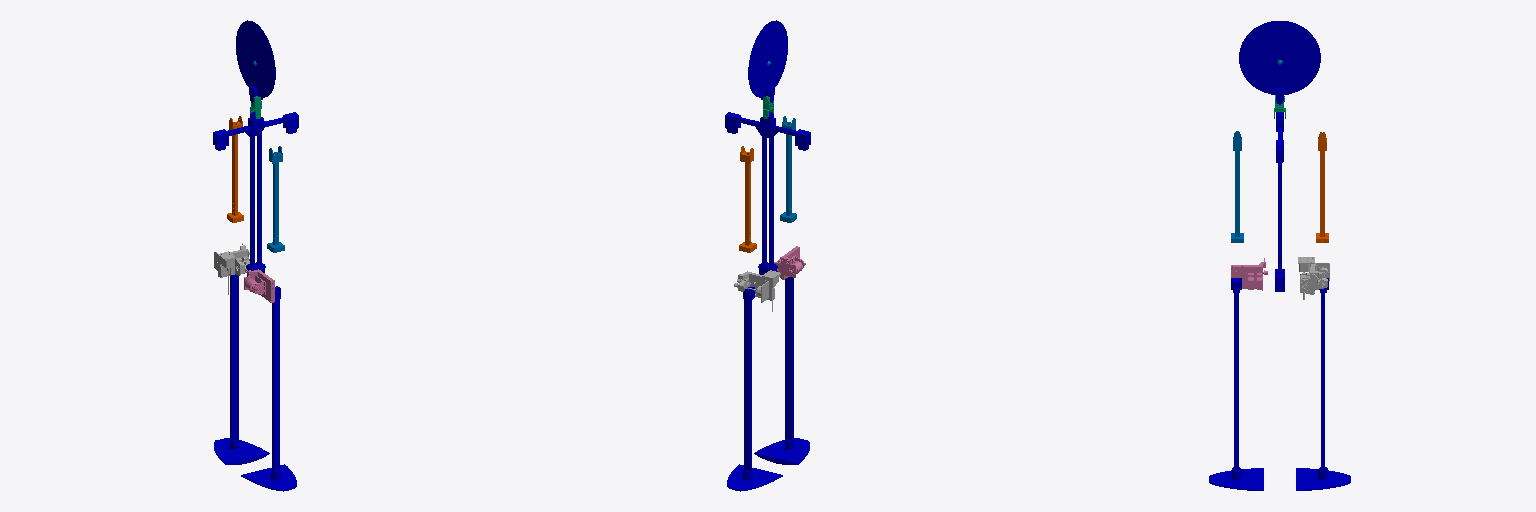
The robot description file, URDF, robot "robot":
<?xml version="1.0" ?>
<!-- Marcheur passif -->
<!-- This file comes from Aldebaran romeo.urdf file with slight modifications:               -->
<!--             - rename joint_base by waist (joint base name in sot is already joint_base) -->
<!--             - waist joint goes from base_link to body (and not base_link)                   -->
<!--             - inverse trunkYaw joint direction (now from body to base_link)                 -->
<!-- Aldebaran file comes from                                                               --> 

<robot name="robot"  xmlns:xacro="http://www.ros.org/wiki/xacro">

   <material name="blue">
      <color rgba="0 0 0.8 1"/>
   </material>

   <link name="world"/>

  <joint name="fixed" type="fixed">
    <parent link="world"/>
    <child link="base_link"/>
</joint>


<!-- virtual link with a virtual joint to make the root link -->
  <!--link name="virtual_link"/>
  <joint name="virtual_joint" type="fixed">
    <parent link="virtual_link"/>
    <child link="base_link"/>
  </joint-->



  <link name="base_link">
    <inertial>
      <mass value="1.635"/>
      <inertia ixx="86e-03" ixy="-39.84e-6" ixz="3.991e-4" iyy="83e-3" iyz="-38.29e-6" izz="4e-3"/>
      <origin rpy="0 0 0" xyz="0 0 0.17346"/>
    </inertial>
    <visual>
      <geometry>
        <mesh filename="package://yoyoman01_description/meshes/BUSTE.stl" scale="0.001 0.001 0.001"/>
      </geometry>
    <origin rpy="0 0 -1.57075" xyz="0 0 0"/>
    <material name="blue"/>
    </visual>
    <collision>
      <geometry>
        <mesh filename="package://yoyoman01_description/meshes/BUSTE.stl" scale="0.001 0.001 0.001"/>
      </geometry>
    <origin rpy="0 0 -1.57075" xyz="0 0 0"/>
    </collision>
  </link>




  <joint name="Neck" type="revolute">
    <parent link="base_link"/>
    <child link="NeckLink"/>
    <origin rpy="0 0 0" xyz="0 0 0.675"/>
    <axis xyz="0 1 0"/>
    <limit effort="1.5" lower="-0.5" upper="0.5" velocity="6.175333333"/>
  </joint>
  <link name="NeckLink">
    <inertial>
      <mass value="0.061"/>
      <inertia ixx="2.95e-5" ixy="-7.67e-9" ixz="-3.61e-9" iyy="2.53e-5" iyz="-3.05e-6" izz="1.09e-5"/>
      <origin rpy="0 0 0" xyz="0 0 0.03"/>
    </inertial>
    <visual>
      <geometry>
        <mesh filename="package://yoyoman01_description/meshes/COU.stl" scale="0.001 0.001 0.001"/>
      </geometry>
    <origin rpy="0 0 1.57075" xyz="0 0 0"/>
    </visual>
    <collision>
      <geometry>
        <mesh filename="package://yoyoman01_description/meshes/COU.stl" scale="0.001 0.001 0.001"/>
      </geometry>
    <origin rpy="0 0 1.57075" xyz="0 0 0"/>
    </collision>
  </link>
  
 <joint name="Head" type="revolute">
    <parent link="NeckLink"/>
    <child link="HeadLink"/>
    <origin rpy="0 0 0" xyz="0 0 0.064502"/>
    <axis xyz="0 1 0"/>
    <limit effort="1.5" lower="-0.5" upper="0.5" velocity="6.175333333"/>
  </joint>
  <link name="HeadLink">
    <inertial>
      <mass value="0.340"/>
      <inertia ixx="2e-3" ixy="-129.7e-9" ixz="5.391e-5" iyy="3e-3" iyz="-267.9e-9" izz="1e-3"/>
      <origin rpy="0 0 0" xyz="0 0 0.143385"/>
    </inertial>
    <visual>
      <geometry>
        <mesh filename="package://yoyoman01_description/meshes/TETE.stl" scale="0.001 0.001 0.001"/>
      </geometry>
    <origin rpy="0 0 1.57075 " xyz="0 0 0"/>
    <material name="blue"/>
    </visual>
    <collision>
      <geometry>
        <mesh filename="package://yoyoman01_description/meshes/TETE.stl" scale="0.001 0.001 0.001"/>
      </geometry>
    <origin rpy="0 0 1.57075 " xyz="0 0 0"/>
    </collision>
  </link>
  

  
<joint name="Rarm" type="revolute">
    <parent link="base_link"/>
    <child link="RArmLink"/>
    <origin rpy="0 0 0" xyz="0 -0.155 0.589901 "/>
    <axis xyz="0 1 0"/>
    <limit effort="4.1" lower="-3" upper="3" velocity="4.814666667"/>
  </joint>
<link name="RArmLink">
    <inertial>
      <mass value="0.172"/>
      <inertia ixx="3e-3" ixy="-2.011e-20" ixz="-3.61e-9" iyy="3e-3" iyz="3.05e-6" izz="2.475e-5"/>
      <origin rpy="0 0 0 " xyz="0 0 -0.10032"/>
    </inertial>
    <visual>
      <geometry>
        <mesh filename="package://yoyoman01_description/meshes/BRAS.stl" scale="0.001 0.001 0.001"/>
      </geometry>
    <origin rpy="0 0 -1.57075" xyz="0 0 0"/>
    </visual>
    <collision>
      <geometry>
        <mesh filename="package://yoyoman01_description/meshes/BRAS.stl" scale="0.001 0.001 0.001"/>
      </geometry>
    <origin rpy="0 0 -1.57075" xyz="0 0 0"/>
    </collision>
  </link>
  
<joint name="Larm" type="revolute">
    <parent link="base_link"/>
    <child link="LArmLink"/>
    <origin rpy="0 0 0" xyz="0 0.155 0.589901 "/>
    <axis xyz="0 1 0"/>
    <limit effort="4.1" lower="-3" upper="3" velocity="4.814666667"/>
  </joint>
<link name="LArmLink">
    <inertial>
      <mass value="0.172"/>
      <inertia ixx="3e-3" ixy="2.011e-20" ixz="-3.61e-9" iyy="3e-3" iyz="-3.05e-6" izz="2.475e-5"/>
      <origin rpy="0 0 0 " xyz="0 0 -0.10032"/>
    </inertial>
    <visual>
      <geometry>
        <mesh filename="package://yoyoman01_description/meshes/BRAS.stl" scale="0.001 0.001 0.001"/>
      </geometry>
    <origin rpy="0 0 1.57075" xyz="0 0 0"/>
    </visual>
    <collision>
      <geometry>
        <mesh filename="package://yoyoman01_description/meshes/BRAS.stl" scale="0.001 0.001 0.001"/>
      </geometry>
    <origin rpy="0 0 1.57075" xyz="0 0 0"/>
    </collision>
  </link>
  
  <joint name="RHip" type="revolute">
    <parent link="base_link"/>
    <child link="RHipLink"/>
    <origin rpy="0 0 0" xyz="0 -0.09 0"/>
    <axis xyz="0 1 0"/>
    <limit effort="6.672" lower="-3" upper="3" velocity="10"/>
  </joint>
  <link name="RHipLink">
    <inertial>
      <mass value="0.816"/>
      <inertia ixx="0.001" ixy="1.921e-4" ixz="-0.0001443" iyy="0.002" iyz="1.291e-4" izz="0.002"/>
      <origin rpy="0 0 0" xyz="0.0506 -0.0137 0.0101"/>
    </inertial>
    <visual>
      <geometry>
        <mesh filename="package://yoyoman01_description/meshes/HANCHE_D.stl" scale="0.001 0.001 0.001"/>
      </geometry>
    <origin rpy="0 3.14 1.57075" xyz="0 0 0"/> 
    </visual>
    <collision>
      <geometry>
        <mesh filename="package://yoyoman01_description/meshes/HANCHE_D.stl" scale="0.001 0.001 0.001"/>
      </geometry>
    <origin rpy="0 3.14 1.57075" xyz="0 0 0"/>
    </collision>
  </link>
  
  <joint name="LHip" type="revolute">
    <parent link="base_link"/>
    <child link="LHipLink"/>
    <origin rpy="0 0 0" xyz="0 0.09 0"/>
    <axis xyz="0 1 0"/>
    <limit effort="6.672" lower="-3" upper="3" velocity="10"/>
  </joint>
  <link name="LHipLink">
    <inertial>
      <mass value="0.816"/>
      <inertia ixx="0.001" ixy="-1.921e-4" ixz="-0.0001443" iyy="0.002" iyz="-1.291e-4" izz="0.002"/>
      <origin rpy="0 0 0" xyz="0.0506 0.0137 0.0101"/>
    </inertial>
    <visual>
      <geometry>
        <mesh filename="package://yoyoman01_description/meshes/HANCHE_G.stl" scale="0.001 0.001 0.001"/>
      </geometry>
    <origin rpy="0 0 1.57075" xyz="0 0 0"/>
    </visual>
    <collision>
      <geometry>
        <mesh filename="package://yoyoman01_description/meshes/HANCHE_G.stl" scale="0.001 0.001 0.001"/>
      </geometry>
    <origin rpy="0 0 1.57075" xyz="0 0 0"/>
    </collision>
  </link>
  
  <joint name="RKnee" type="fixed">
    <parent link="RHipLink"/>
    <child link="RKneeLink"/>
    <origin rpy="0 0 0" xyz="-0.021 -0.068 -0.01"/>
    <axis xyz="0 0 0"/>
    <limit effort="50" lower="0" upper="0.04" velocity="1"/>
  </joint>
  <link name="RKneeLink">
    <inertial>
      <mass value="0.839"/>
      <inertia ixx="80e-3" ixy="17.42e-6" ixz="-154.3e-6" iyy="80e-3" iyz="-3e-3" izz="2e-3"/>
      <origin rpy="0 0 0" xyz="0.01817 -0.01317 -0.557"/>
    </inertial>
    <visual>
      <geometry>
        <mesh filename="package://yoyoman01_description/meshes/JAMBE_G.stl" scale="0.001 0.001 0.001"/>
      </geometry>
    <origin rpy="0 0 3.14" xyz="0 0 0"/>
    <material name="blue"/>
    </visual>
    <collision>
      <geometry>
        <mesh filename="package://yoyoman01_description/meshes/JAMBE_G.stl" scale="0.001 0.001 0.001"/>
      </geometry>
    <origin rpy="0 0 3.14" xyz="0 0 0"/>
    </collision>
  </link> 
  
  <joint name="LKnee" type="fixed">
    <parent link="LHipLink"/>
    <child link="LKneeLink"/>
    <origin rpy="0 0 0" xyz="-0.021 0.068 -0.01"/>
    <axis xyz="0 0 0"/>
    <limit effort="50" lower="0" upper="0.04" velocity="1"/>
  </joint>
  <link name="LKneeLink">
    <inertial>
      <mass value="0.839"/>
      <inertia ixx="80e-3" ixy="-17.42e-6" ixz="-154.3e-6" iyy="80e-3" iyz="3e-3" izz="2e-3"/>
      <origin rpy="0 0 0" xyz="0.01817 0.01317 -0.557"/>
    </inertial>
    <visual>
      <geometry>
        <mesh filename="package://yoyoman01_description/meshes/JAMBE_D.stl" scale="0.001 0.001 0.001"/>
      </geometry>
    <origin rpy="0 0 3.14" xyz="0 0 0"/>
    <material name="blue"/>
    </visual>
    <collision>
      <geometry>
        <mesh filename="package://yoyoman01_description/meshes/JAMBE_D.stl" scale="0.001 0.001 0.001"/>
      </geometry>
    <origin rpy="0 0 3.14" xyz="0 0 0"/>
    </collision>
  </link>



<!-- **********Virtual points on the top of the foots ********** -->

  <joint name="RFoot" type="fixed">
    <parent link="RKneeLink"/>
    <child link="RFootLink"/>
    <origin rpy="0 0 0" xyz="0.0187 0 -0.7775"/>
    <axis xyz="0 0 0"/>
  </joint>
    <link name="RFootLink">
  </link>
  
  <joint name="LFoot" type="fixed">
    <parent link="LKneeLink"/>
    <child link="LFootLink"/>
    <origin rpy="0 0 0" xyz="0.0187 0 -0.7775"/>
    <axis xyz="0 0 0"/>
  </joint>
    <link name="LFootLink">
  </link>

<!-- IMU -->
<link name="imu_link">
  <inertial>
    <mass value="0.00"/>
    <origin rpy="0 0 0" xyz="0 0 0"/>
    <inertia ixx="0.000" ixy="0" ixz="0" iyy="0.000" iyz="0" izz="0.000"/>
  </inertial>

  <visual>
    <origin rpy="0 0 0" xyz="0 0 0"/>
    <geometry>
      <sphere radius="0.01"/>
    </geometry>
  </visual>

  <collision>
    <origin rpy="0 0 0" xyz="0 0 0"/>
    <geometry>
      <sphere radius="0.01"/>
    </geometry>
  </collision>
</link>

<!-- IMU Joint -->
  <joint name="imu_joint" type="fixed">
    <axis xyz="0 0 0"/> <!-- 0 1 0 -->
    <origin xyz="0 0 0.15" rpy="0 0 0"/>
    <parent link="HeadLink"/>
    <child link="imu_link"/>
  </joint>



<!--
**********Transmissions**********
-->


  <transmission name="tranHead">
    <type>transmission_interface/SimpleTransmission</type>
    <joint name="Head">
      <hardwareInterface>hardware_interface/PositionJointInterface</hardwareInterface>
    </joint>
    <actuator name="motorHead">
      <hardwareInterface>hardware_interface/PositionJointInterface</hardwareInterface>

      <mechanicalReduction>1</mechanicalReduction>
    </actuator>
  </transmission>

  <transmission name="tranNeck">
    <type>transmission_interface/SimpleTransmission</type>
    <joint name="Neck">
      <hardwareInterface>hardware_interface/PositionJointInterface</hardwareInterface>
    </joint>
    <actuator name="motorNeck">
      <hardwareInterface>hardware_interface/PositionJointInterface</hardwareInterface>
      <mechanicalReduction>1</mechanicalReduction>
    </actuator>
  </transmission>

  <transmission name="tranRarm">
    <type>transmission_interface/SimpleTransmission</type>
    <joint name="Rarm">
      <hardwareInterface>hardware_interface/PositionJointInterface</hardwareInterface>
    </joint>
    <actuator name="motorRarm">
      <hardwareInterface>hardware_interface/PositionJointInterface</hardwareInterface>
      <mechanicalReduction>1</mechanicalReduction>
    </actuator>
  </transmission>

  <transmission name="tranLarm">
    <type>transmission_interface/SimpleTransmission</type>
    <joint name="Larm">
      <hardwareInterface>hardware_interface/PositionJointInterface</hardwareInterface>
    </joint>
    <actuator name="motorLarm">
      <hardwareInterface>hardware_interface/PositionJointInterface</hardwareInterface>
      <mechanicalReduction>1</mechanicalReduction>
    </actuator>
  </transmission>

  <transmission name="tranRHip">
    <type>transmission_interface/SimpleTransmission</type>
    <joint name="RHip">
      <hardwareInterface>hardware_interface/PositionJointInterface</hardwareInterface>
    </joint>
    <actuator name="motorRHip">
      <hardwareInterface>hardware_interface/PositionJointInterface</hardwareInterface>
      <mechanicalReduction>1</mechanicalReduction>
    </actuator>
  </transmission>

  <transmission name="tranLHip">
    <type>transmission_interface/SimpleTransmission</type>
    <joint name="LHip">
      <hardwareInterface>hardware_interface/PositionJointInterface</hardwareInterface>
    </joint>
    <actuator name="motorLHip">
      <hardwareInterface>hardware_interface/PositionJointInterface</hardwareInterface>
      <mechanicalReduction>1</mechanicalReduction>
    </actuator>
  </transmission>
  

<gazebo>
    <plugin name="gazebo_ros_control" filename="libgazebo_ros_control.so">
      <!--robotNamespace>/yoyoman01</robotNamespace-->

       <ns/>
      <robotSimType>pal_hardware_gazebo/PalHardwareGazebo</robotSimType>
      <robotNamespace/>
      <controlPeriod>0.001</controlPeriod>
    </plugin>
    <selfCollide>true</selfCollide>
    <gravity>true</gravity>
<!-- IMU-->



<!--
      <plugin name="imu_plugin" filename="libgazebo_ros_imu.so">
            <alwaysOn>true</alwaysOn>
            <updateRate>10</updateRate>
            <bodyName>imu_link</bodyName>
            <topicName>/imu_ros</topicName>
            <serviceName>/imu/calibrate</serviceName>
            <accelOffset>0.0 0.0 0.0</accelOffset>
            <accelDrift>0.0 0.0 0.0</accelDrift>
            <accelDriftFrequency>0.0 0.0 0.0</accelDriftFrequency>
            <accelGaussianNoise>0.0 0.0 0.0</accelGaussianNoise>
            <rateOffset>0.0 0.0 0.0</rateOffset>
            <rateDrift>0.0 0.0 0.0</rateDrift>
            <rateDriftFrequency>0.0 0.0 0.0</rateDriftFrequency>
            <rateGaussianNoise>0.0 0.0 0.0</rateGaussianNoise>
            <headingOffset>0.0</headingOffset>
            <headingDrift>0.0</headingDrift>
            <headingDriftFrequency>0.0</headingDriftFrequency>
            <headingGaussianNoise>0.0</headingGaussianNoise>
            <rpyOffset>0.0 0.0 0.0</rpyOffset>
            <xyzOffset>0.0 0.0 0.0</xyzOffset>
            <gaussianNoise>0.0</gaussianNoise>
        </plugin>
-->
    <plugin name="imu_link_controller" filename="libhector_gazebo_ros_imu.so">
      <updateRate>100.0</updateRate>
      <bodyName>imu_link</bodyName>
      <topicName>COMAN/raw_imu</topicName>
      <rpyOffsets>0 0 0</rpyOffsets> 
      <gaussianNoise>0</gaussianNoise>  
      <accelDrift>0.5 0.5 0.5</accelDrift>
      <accelGaussianNoise>0.35 0.35 0.3</accelGaussianNoise>
      <rateDrift>0.1 0.1 0.1</rateDrift>
      <rateGaussianNoise>0.05 0.05 0.015</rateGaussianNoise>
      <headingDrift>0.1</headingDrift>
      <headingGaussianNoise>0.05</headingGaussianNoise>
    </plugin>

  </gazebo>



  <gazebo reference="imu_link">


    <gravity>true</gravity>
    <sensor name="imu_sensor" type="imu">
      <always_on>true</always_on>
      <update_rate>1000.0</update_rate>
      <visualize>true</visualize>
      <topic>__default_topic__</topic>
      <plugin filename="libgazebo_ros_imu_sensor.so" name="imu_plugin">
        <topicName>imu_gazebo</topicName>
        <bodyName>imu_link</bodyName>
        <updateRateHZ>1000.0</updateRateHZ>
        <gaussianNoise>0.0</gaussianNoise>
        <xyzOffset>0 0 0</xyzOffset>
        <rpyOffset>0 0 0</rpyOffset>
        <frameName>imu_link</frameName>
      </plugin>
      <pose>0 0 0 0 0 0</pose>
    </sensor>
  </gazebo>

		<!-- Imu definition required for DLS hardware interface of ros control -->
		<gazebo reference="imu_link">
			<sensor name="imu_sensor" type="imu">
				<always_on>1</always_on>
				<update_rate>10</update_rate>
				<imu>
					<noise>
						<type>gaussian</type>
						<rate>
							<mean>0</mean>
							<stddev>0</stddev>
							<bias_mean>0</bias_mean>
							<bias_stddev>0</bias_stddev>
						</rate>
						<accel>
							<mean>0</mean>
							<stddev>0</stddev>
							<bias_mean>0</bias_mean>
							<bias_stddev>0</bias_stddev>
						</accel>
					</noise>
				</imu>
			</sensor>
               </gazebo>


</robot>

--- What the picture shows (computed from the rendered views, not written in the file) ---
Views: 3 orthographic renders of the robot side by side, from view 1: azimuth 30°, elevation 25°; view 2: azimuth 150°, elevation 25°; view 3: azimuth 270°, elevation 25°.
Model robot with 13 links and 12 joints (6 revolute, 6 fixed), rooted at world, posed all joints at 0.
Links seen in each view (by area): view 1: base_link, LKneeLink, RKneeLink, HeadLink, LHipLink, RArmLink, LArmLink, RHipLink; view 2: base_link, RKneeLink, LKneeLink, HeadLink, LHipLink, LArmLink, RArmLink, RHipLink; view 3: HeadLink, RKneeLink, LKneeLink, base_link, LHipLink, RHipLink, RArmLink, LArmLink.
Link boxes in pixels (<box>): base_link: <box>213,112,298,276</box>; LKneeLink: <box>214,274,269,464</box>; RKneeLink: <box>241,286,296,491</box>; HeadLink: <box>236,20,275,102</box>; LHipLink: <box>214,243,249,294</box>; RArmLink: <box>267,146,284,252</box>; LArmLink: <box>227,116,243,222</box>; RHipLink: <box>244,269,274,302</box>; base_link: <box>725,112,810,274</box>; RKneeLink: <box>754,277,809,464</box>; LKneeLink: <box>727,287,782,491</box>; HeadLink: <box>748,20,787,102</box>; LHipLink: <box>734,270,780,311</box>; LArmLink: <box>739,146,756,252</box>; RArmLink: <box>780,116,796,222</box>; RHipLink: <box>774,246,805,279</box>; HeadLink: <box>1239,21,1320,104</box>; RKneeLink: <box>1209,278,1263,490</box>; LKneeLink: <box>1296,278,1350,490</box>; base_link: <box>1275,112,1284,291</box>; LHipLink: <box>1298,257,1329,299</box>; RHipLink: <box>1231,258,1267,290</box>; RArmLink: <box>1231,131,1243,242</box>; LArmLink: <box>1316,132,1328,242</box>.
Size in the robot's own frame: 0.3601 by 0.5161 by 1.86 metres.
9 mesh visuals loaded from 8 distinct referenced files (8 binary STL).
